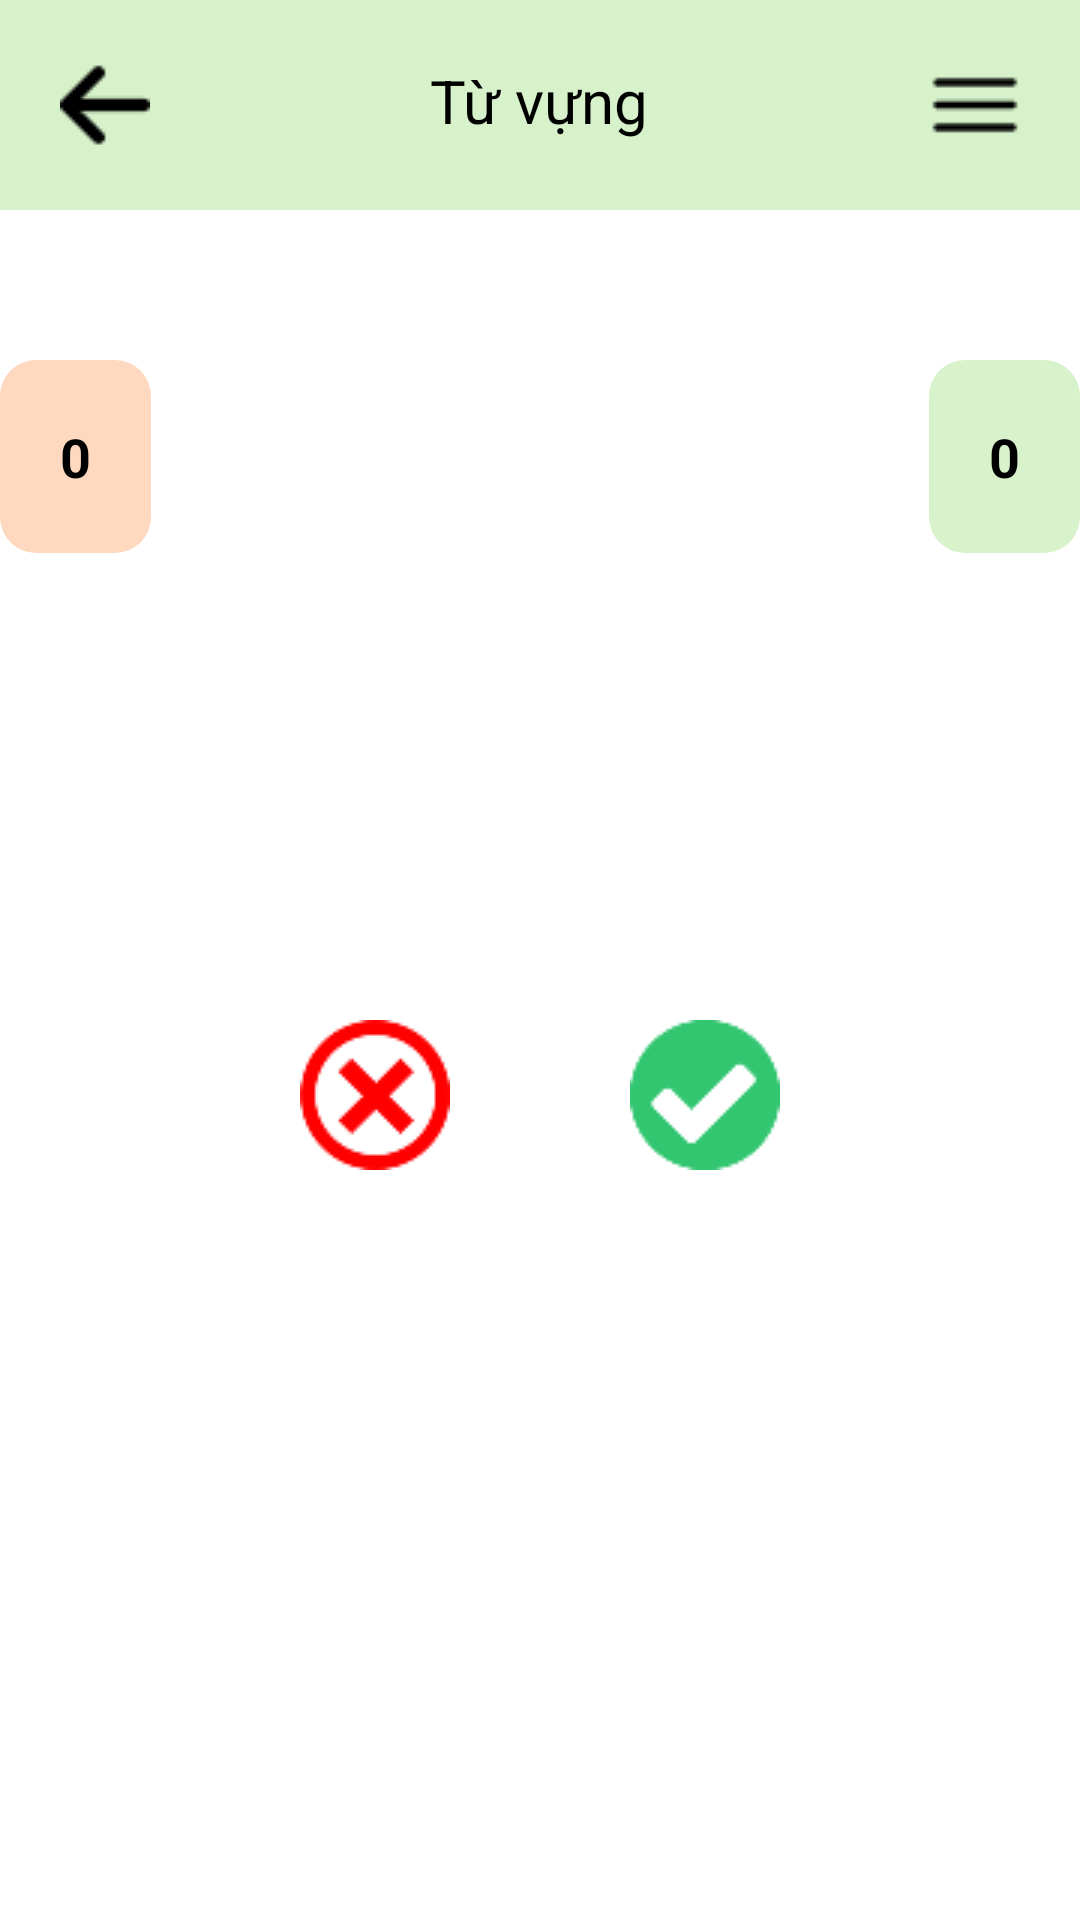

Where icons sit on this 1080×1920 app screen, as (x1, y1, x2, y2):
back: (60, 65, 150, 145)
known: (630, 1020, 780, 1170)
list: (932, 77, 1018, 133)
unknown: (300, 1020, 450, 1170)
